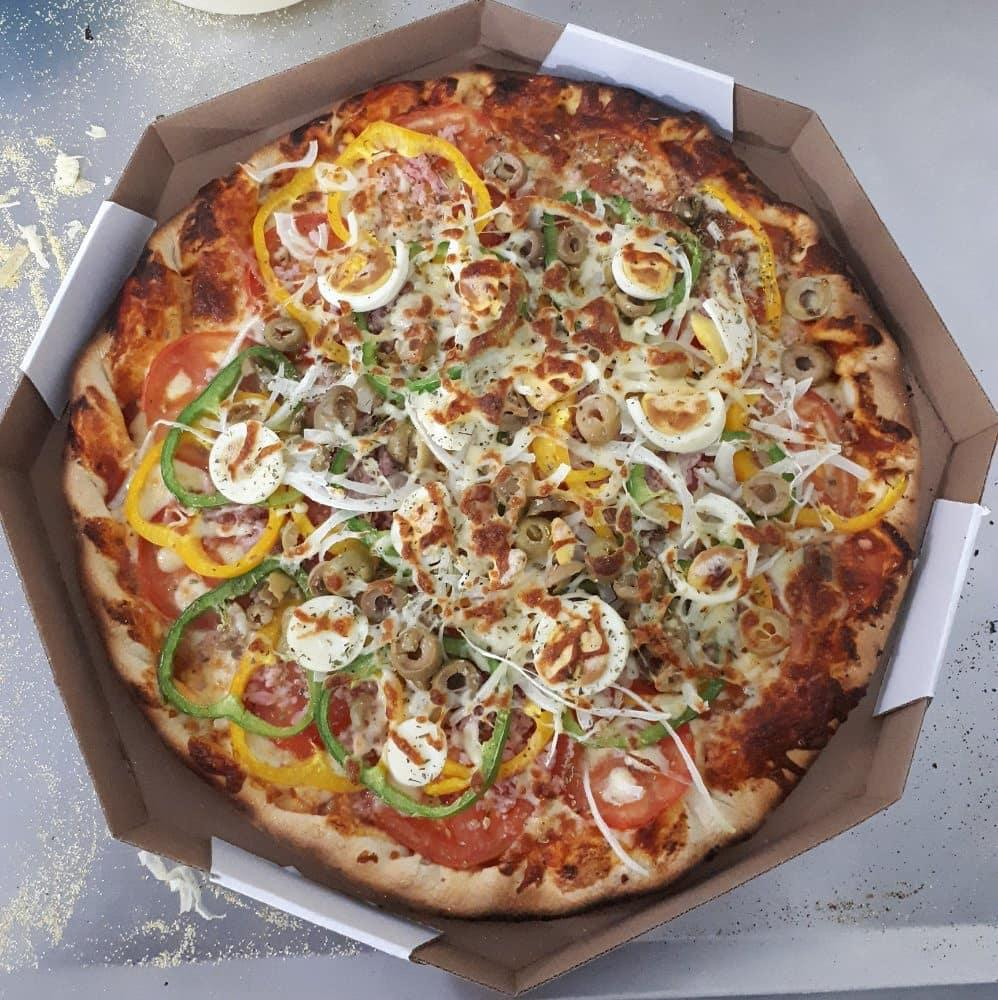Olives: (388, 626, 447, 682), (428, 653, 485, 708), (734, 603, 792, 657), (776, 339, 836, 389), (576, 388, 625, 448), (322, 548, 381, 595), (785, 274, 834, 328), (644, 337, 696, 387), (506, 506, 557, 556), (360, 580, 411, 625), (479, 149, 529, 194), (318, 383, 360, 434), (555, 218, 596, 269), (256, 313, 309, 351), (504, 223, 547, 266), (611, 290, 658, 324), (322, 533, 374, 561), (240, 597, 281, 629), (299, 564, 331, 604), (530, 494, 575, 521), (277, 509, 305, 551)
Peppers: (312, 635, 516, 823), (228, 602, 403, 796), (153, 559, 327, 742), (118, 434, 316, 590), (725, 397, 913, 541), (324, 114, 499, 258), (538, 185, 703, 327), (253, 165, 350, 364), (390, 692, 558, 799), (551, 675, 729, 753), (702, 176, 787, 334), (529, 393, 616, 543), (346, 308, 463, 405), (617, 465, 688, 533), (250, 345, 300, 389), (269, 475, 306, 514), (320, 436, 356, 469)
Pizza: (64, 62, 926, 915)
Tomatoes: (141, 329, 255, 471), (561, 716, 698, 833), (136, 504, 253, 632), (371, 796, 534, 871), (241, 211, 352, 319), (231, 663, 356, 758), (779, 379, 854, 525), (382, 100, 499, 171)
